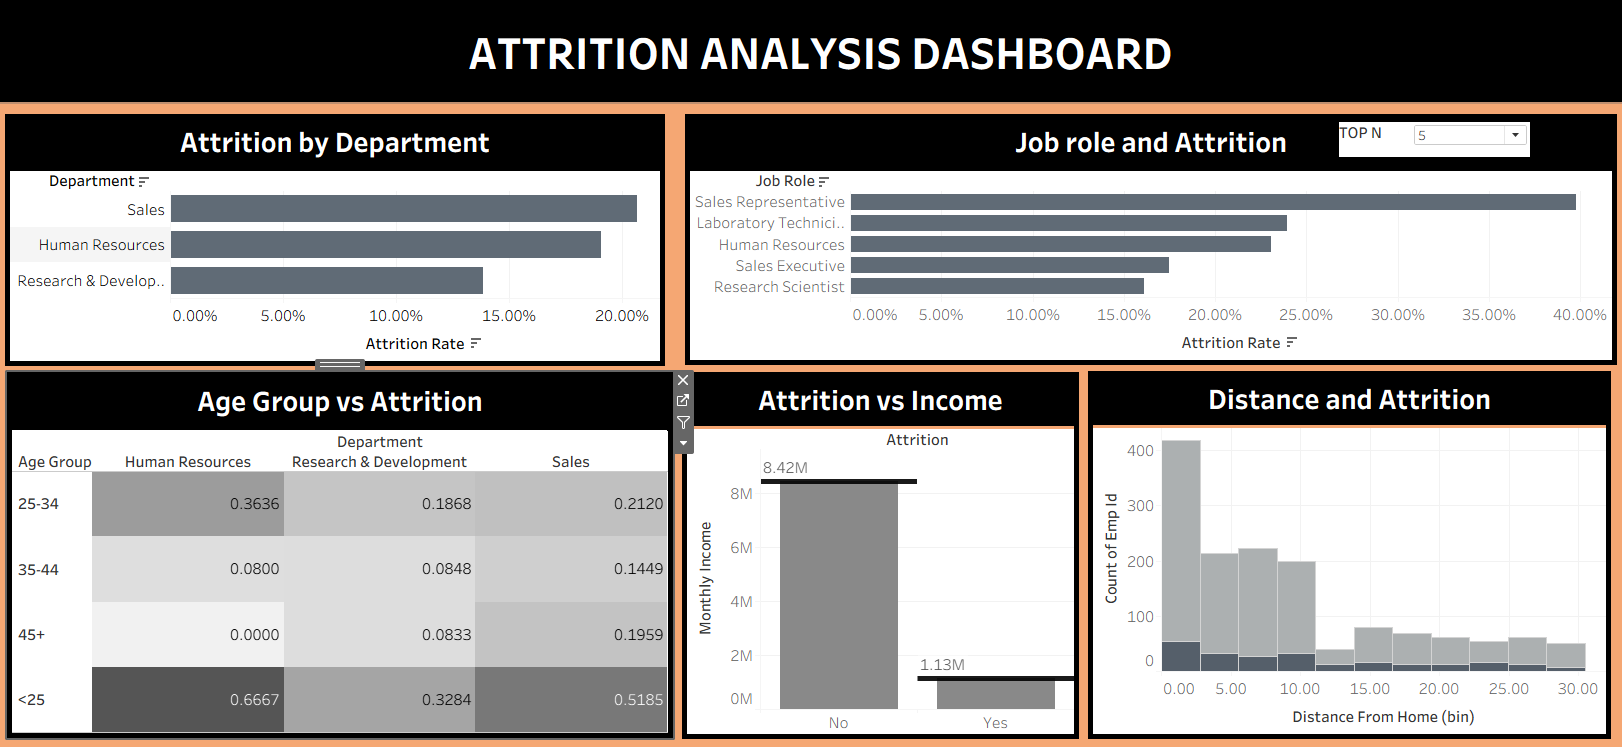

Layout of this report page (visuals, bound fields, positions):
{"tool":"tableau","page":{"name":"Attrition Analysis Dashboard","canvas":[1000,1000],"units":"permille","ordinal":0},"visuals":[{"type":"text","box":[4.7,10.2,958.7,129.9]},{"type":"worksheet","title":"Attrition by Department","mark":"Automatic","rows":["Department"],"cols":["Calculation_1400056542017900547"],"box":[9.9,155.4,383.7,321]},{"type":"worksheet","title":"Job role and Attrition","mark":"Automatic","rows":["JobRole"],"cols":["Calculation_1400056542017900547"],"box":[405.2,155.4,541.9,319.8]},{"type":"parameter","param":"[Parameters].[Parameter 1]","box":[785.5,165.6,111,44.6]},{"type":"worksheet","title":"Distance and Attrition","mark":"Bar","rows":["emp_id"],"cols":["Distance From Home (bin)"],"box":[639.5,482.8,304.1,468.8]},{"type":"worksheet","title":"Age Group vs Attrition","mark":"Automatic","rows":["Calculation_1400056542042988552"],"cols":["Department"],"box":[11.1,484.1,387.2,466.2]},{"type":"worksheet","title":"Attrition vs Income","mark":"Automatic","rows":["MonthlyIncome"],"cols":["Attrition"],"box":[403.5,484.1,230.8,467.5]}]}

Visuals, with their boxes on the dashboard's canvas, which has no fixed pixel size, in thousandths of its width and height (x1, y1, x2, y2). These are canvas units, not pixel positions in the 1622x747 screenshot, which may show the page scaled, cropped or inside an application window:
text: box=[5, 10, 963, 140]
"Attrition by Department" worksheet: box=[10, 155, 394, 476]
"Job role and Attrition" worksheet: box=[405, 155, 947, 475]
parameter: box=[786, 166, 896, 210]
"Distance and Attrition" worksheet (Bar marks): box=[640, 483, 944, 952]
"Age Group vs Attrition" worksheet: box=[11, 484, 398, 950]
"Attrition vs Income" worksheet: box=[404, 484, 634, 952]
